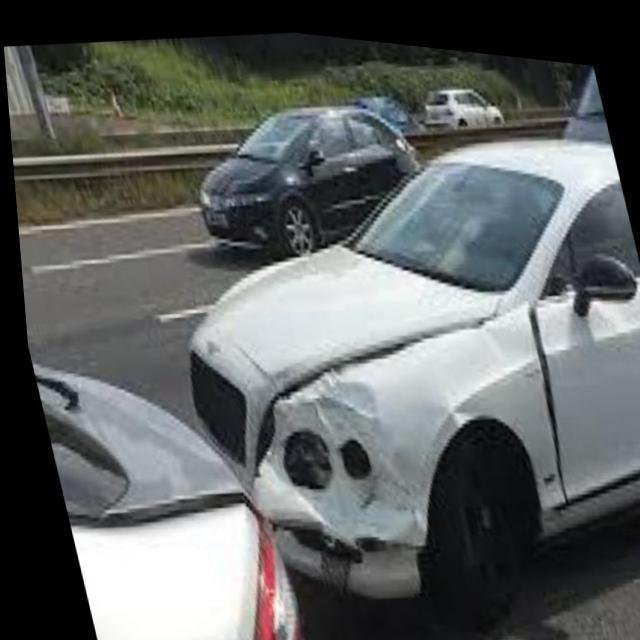dislocated part: (242, 285, 570, 562)
